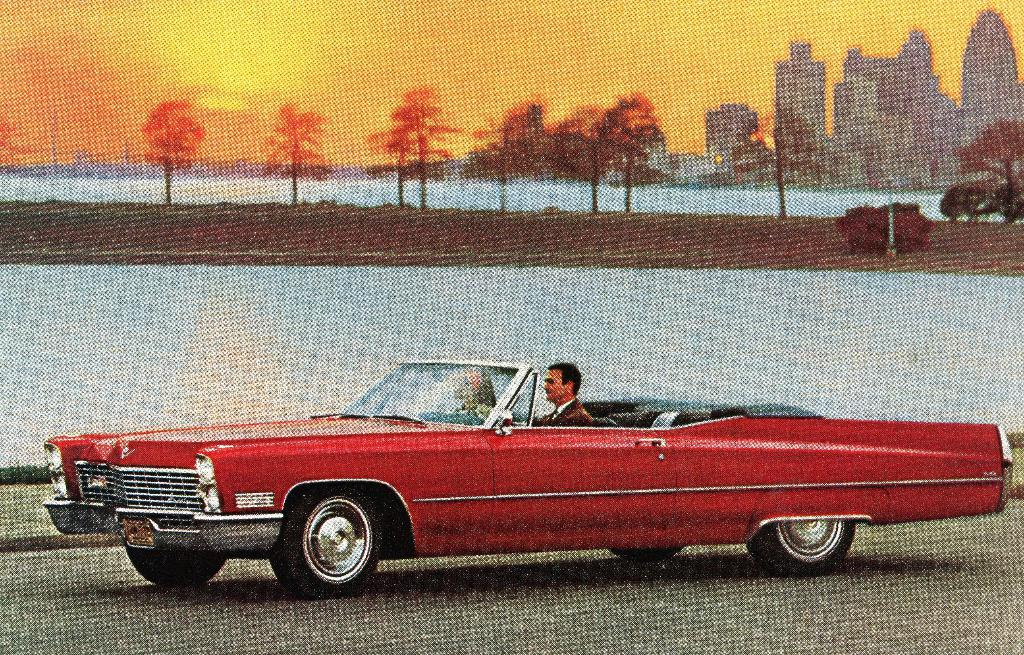person: (518, 360, 595, 427)
